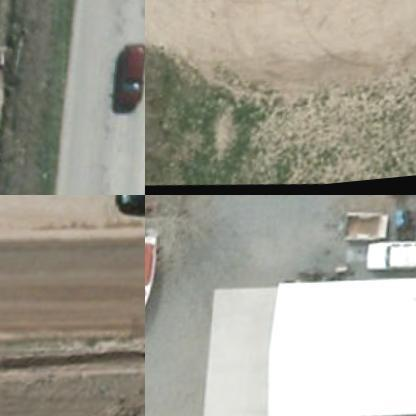boat: (145, 231, 161, 328)
car: (363, 240, 415, 283), (115, 46, 144, 112), (109, 195, 144, 225)
